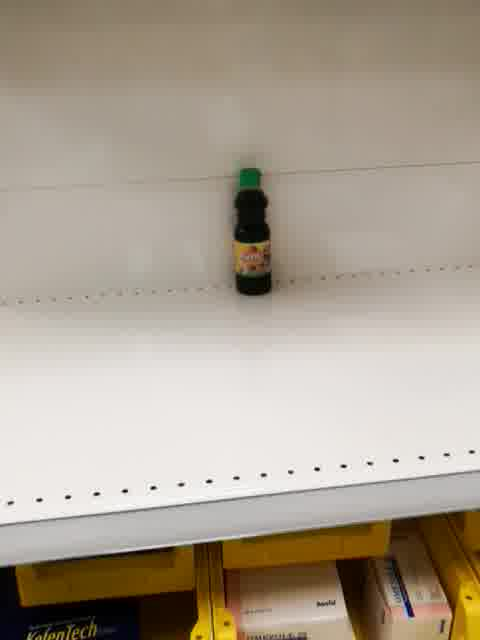cookingoil: (231, 163, 275, 299)
